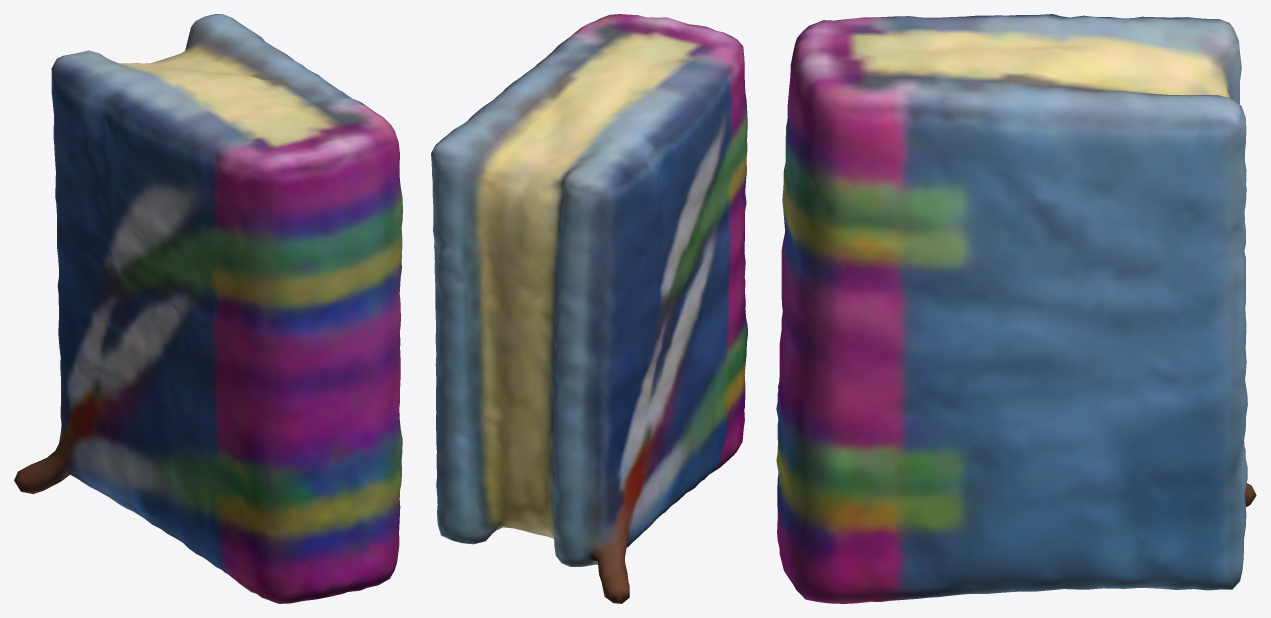
File: book.glb
3 views of the same model, side by side, from view 1: azimuth 30°, elevation 25°; view 2: azimuth 150°, elevation 25°; view 3: azimuth 270°, elevation 25° (orthographic). The views are drawn at different scales.
Visible parts, largest first — view 1: Mesh1; view 2: Mesh1; view 3: Mesh1.
Part boxes in pixels (x1=…): Mesh1: x1=14, y1=14, x2=402, y2=603; Mesh1: x1=431, y1=14, x2=747, y2=603; Mesh1: x1=776, y1=14, x2=1256, y2=603.
Bounding box in the file's own units: 0.6197 × 1.2 × 1.
Materials: 1 (1 with a texture image).
